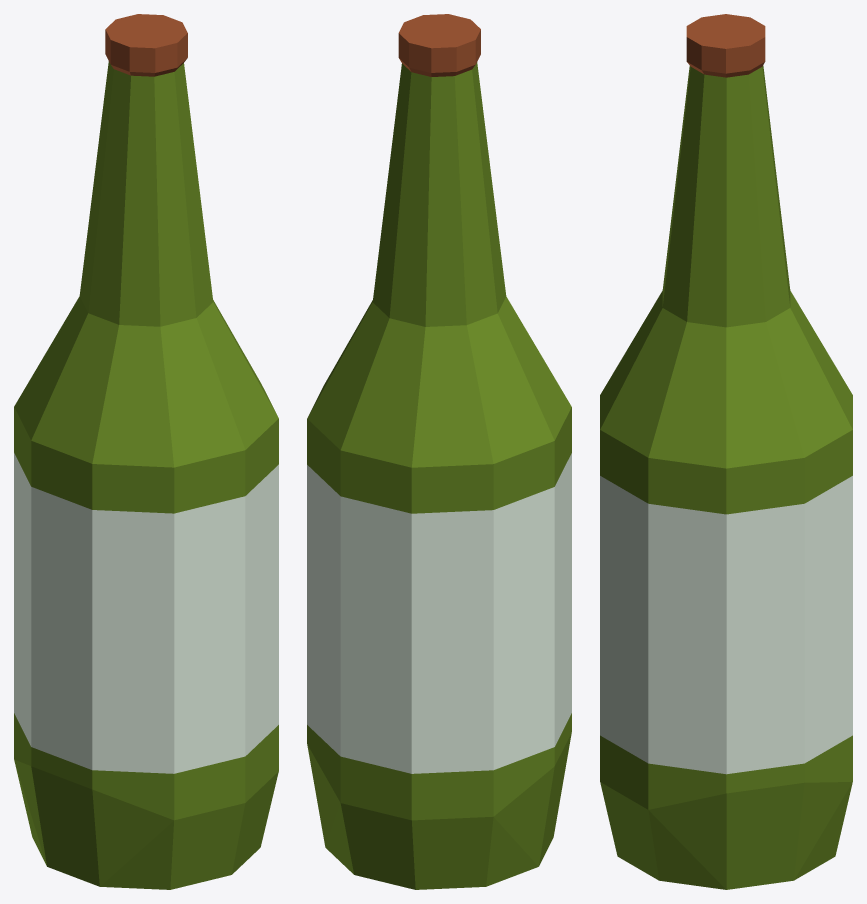
File: Prop_Fantasy_Glass_Bottle_Wine_Ale_01.FBX
The picture shows the model from 3 angles, left to right: view 1: azimuth 30°, elevation 25°; view 2: azimuth 150°, elevation 25°; view 3: azimuth 270°, elevation 25°; orthographic projection.
Visible parts, largest first — view 1: Prop_Fantasy_Glass_Bottle_Wine_Ale_01; view 2: Prop_Fantasy_Glass_Bottle_Wine_Ale_01; view 3: Prop_Fantasy_Glass_Bottle_Wine_Ale_01.
Part boxes in pixels (bbox=[...]): Prop_Fantasy_Glass_Bottle_Wine_Ale_01: bbox=[14, 14, 278, 889]; Prop_Fantasy_Glass_Bottle_Wine_Ale_01: bbox=[307, 14, 571, 889]; Prop_Fantasy_Glass_Bottle_Wine_Ale_01: bbox=[600, 14, 852, 889].
Size of the model in its own units: 114 by 385 by 109.
